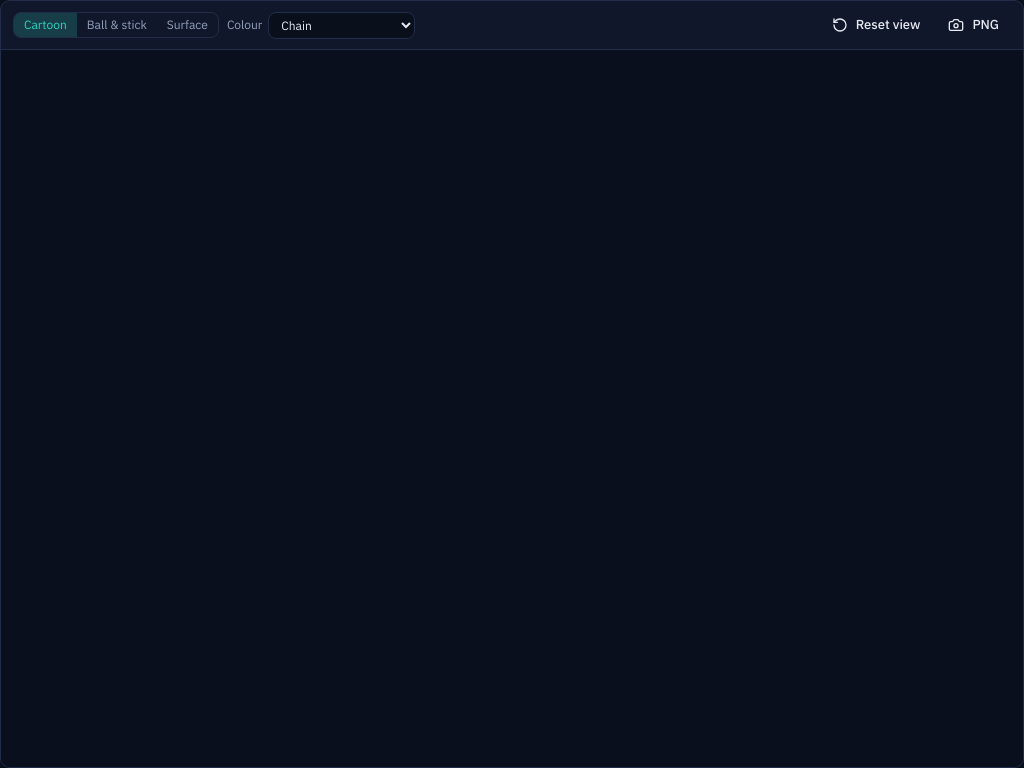
Test: ViewerPanel › warns that experimental structures carry B-factors, not pLDDT
Select "pLDDT confidence" in the dropdown named "Colour by" at (342, 25), box [268,12,415,38]
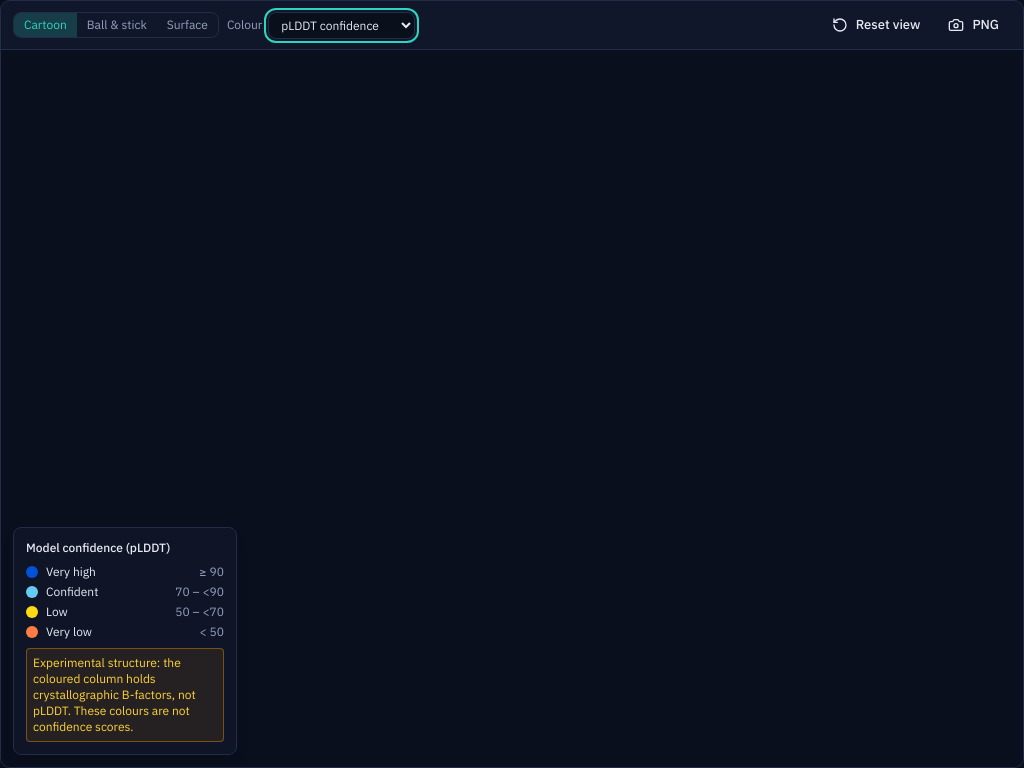
Expected: the text "B-factors, not pLDDT" is shown, [33,655,196,734]
